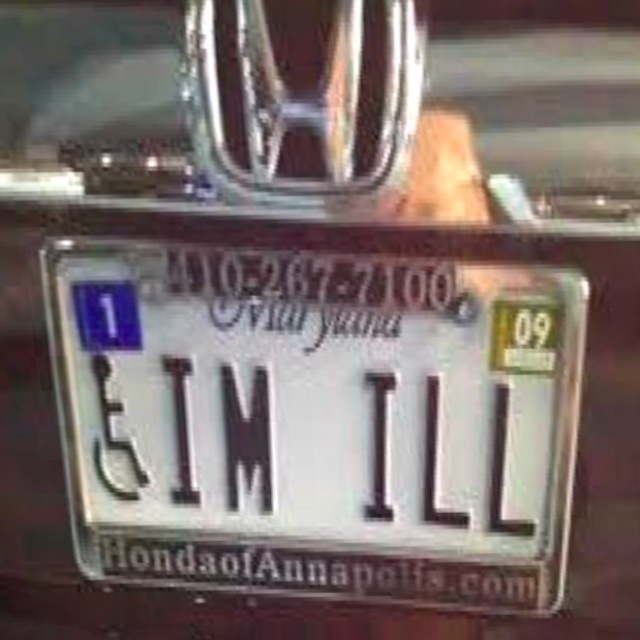ISA: (72, 352, 161, 514)
